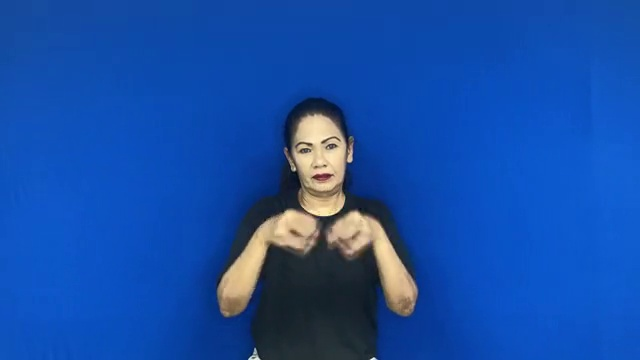egg: (252, 202, 384, 265)
